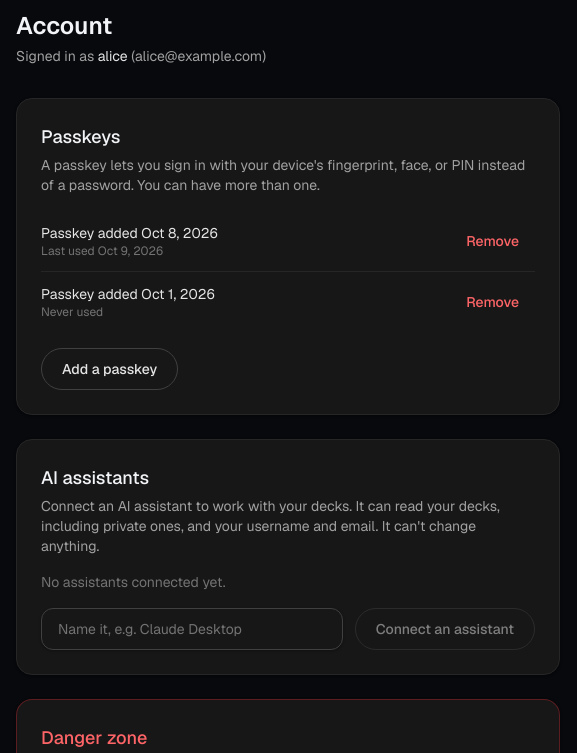
account page: removing a passkey › deletes the chosen passkey and drops only that row
// Row 2 is `older` (id 1, "Never used"): remove that one.
What coordinates should you click on to do the following:
click the button "Remove" in the row of "Passkey added Oct 1, 2026"
I would click on:
 (493, 302)
Its box is [450,284,535,320].
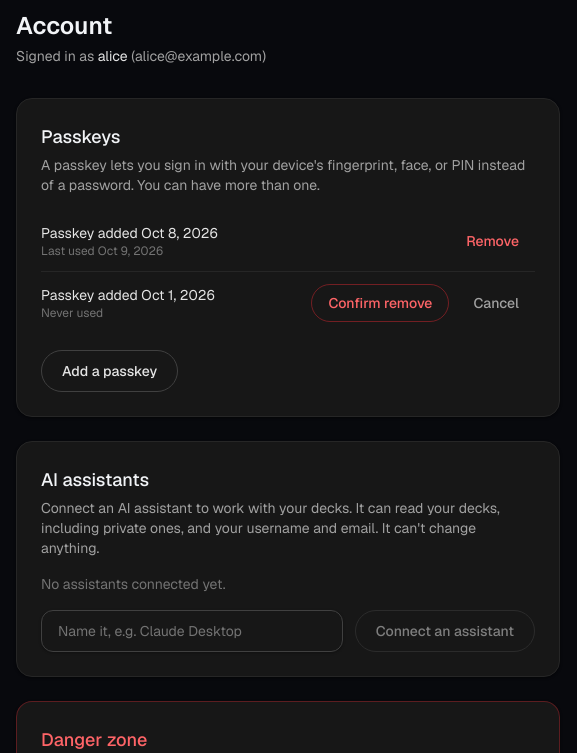
What coordinates should you click on to do the following:
click the button "Confirm remove"
I would click on:
 (380, 303)
Its box is [311,284,449,322].
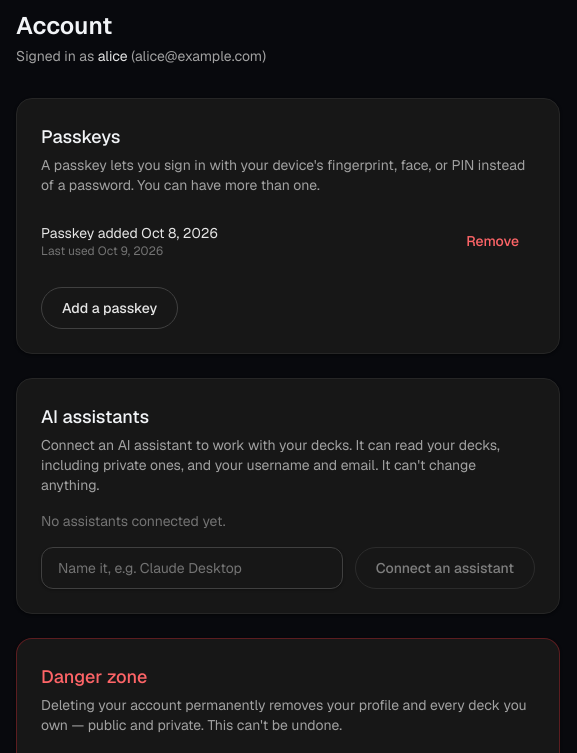
Expected: the list item shows "Last used", [41,243,163,259]
Now the number of list items is 1, box [41,211,535,271]
